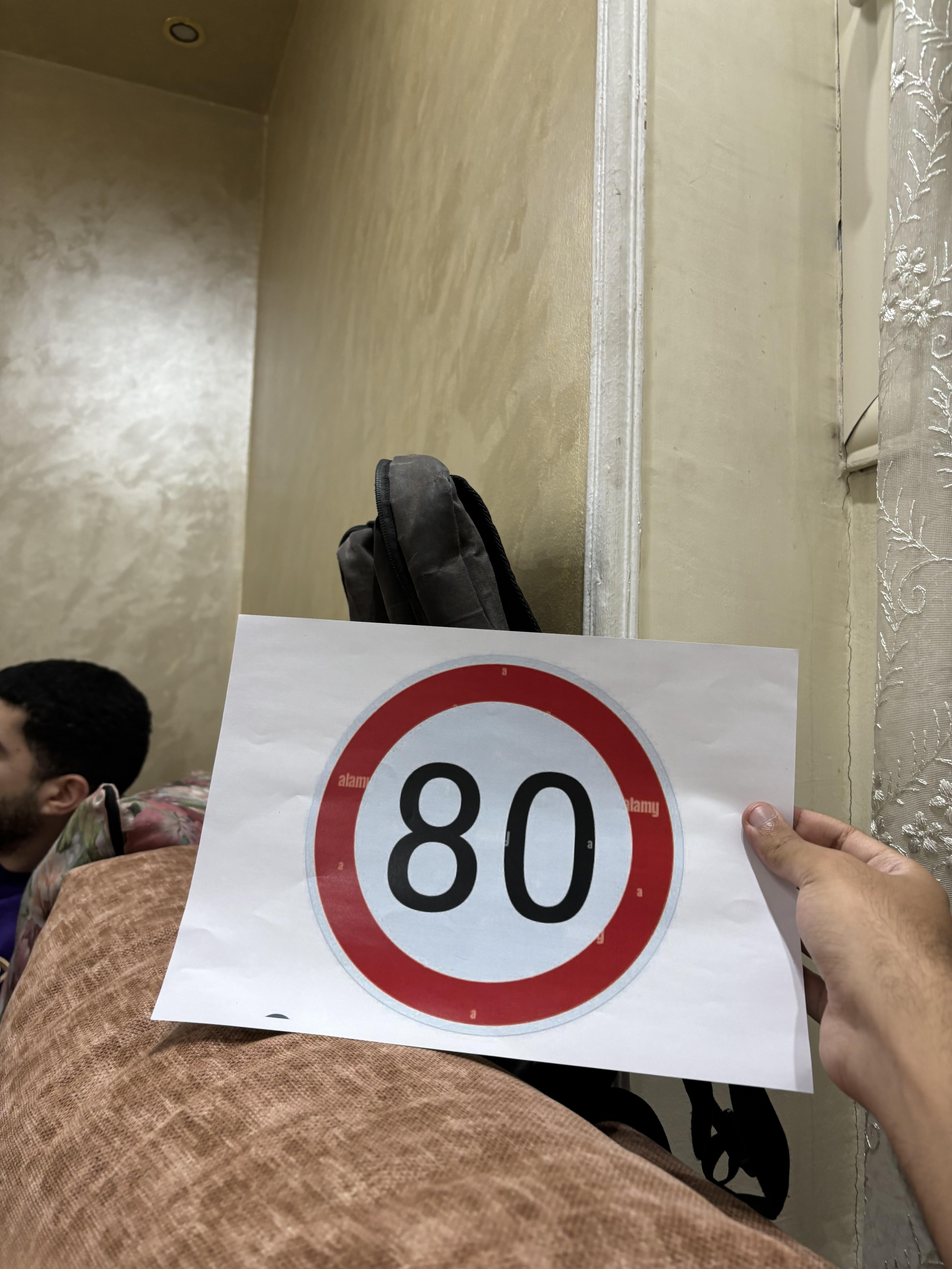80-Speed: (307, 645, 687, 1039)
